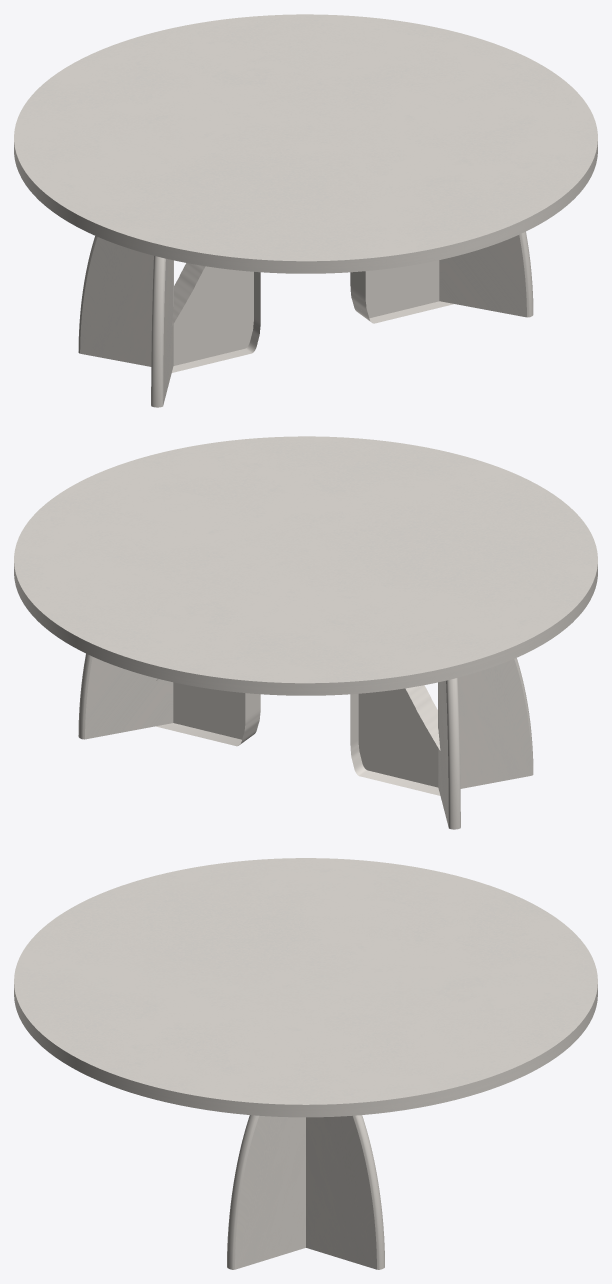
File: pearlwhite_round_standard_plane.glb
3 renders of one model, top to bottom at view 1: azimuth 30°, elevation 25°; view 2: azimuth 150°, elevation 25°; view 3: azimuth 270°, elevation 25°, orthographic.
Visible parts, largest first — view 1: standard_round, plane_singleleft1, plane_single1, plane_singleright2, plane_single2, plane_singleright1; view 2: standard_round, plane_single1, plane_singleright1, plane_singleleft2, plane_single2, plane_singleleft1; view 3: standard_round, plane_singleleft2, plane_singleright2.
Boxes of the visible parts, <box> form: standard_round: <box>14,14,597,273</box>; plane_singleleft1: <box>78,236,173,366</box>; plane_single1: <box>171,263,260,372</box>; plane_singleright2: <box>439,231,533,317</box>; plane_single2: <box>350,260,453,323</box>; plane_singleright1: <box>151,256,173,407</box>; standard_round: <box>14,436,597,695</box>; plane_single1: <box>350,685,440,795</box>; plane_singleright1: <box>438,658,533,788</box>; plane_singleleft2: <box>78,653,173,739</box>; plane_single2: <box>156,679,260,746</box>; plane_singleleft1: <box>438,678,460,829</box>; standard_round: <box>14,858,597,1117</box>; plane_singleleft2: <box>306,1115,384,1269</box>; plane_singleright2: <box>227,1115,305,1269</box>.
Bounding box in the file's own units: 6.75 × 2.49 × 6.75.
Materials: 1 (1 with a texture image).
